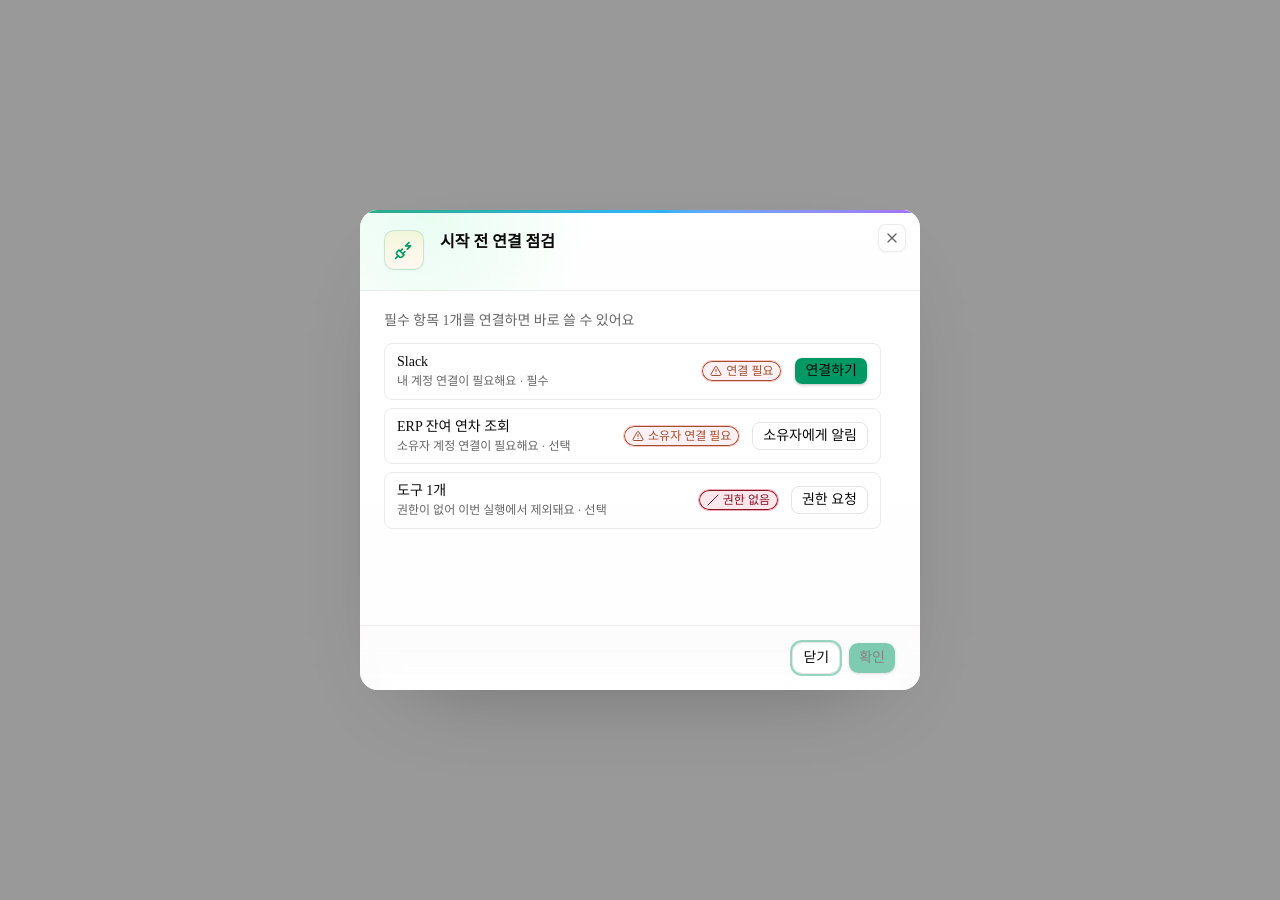
it: ReadinessDialog (S21) and the per-user connection dialog (S23) › notifies the owner once and requests access for counted items via the agent
This screenshot has width=1280, height=900.
Click the button "소유자에게 알림": (810, 436) [752,422,868,450]
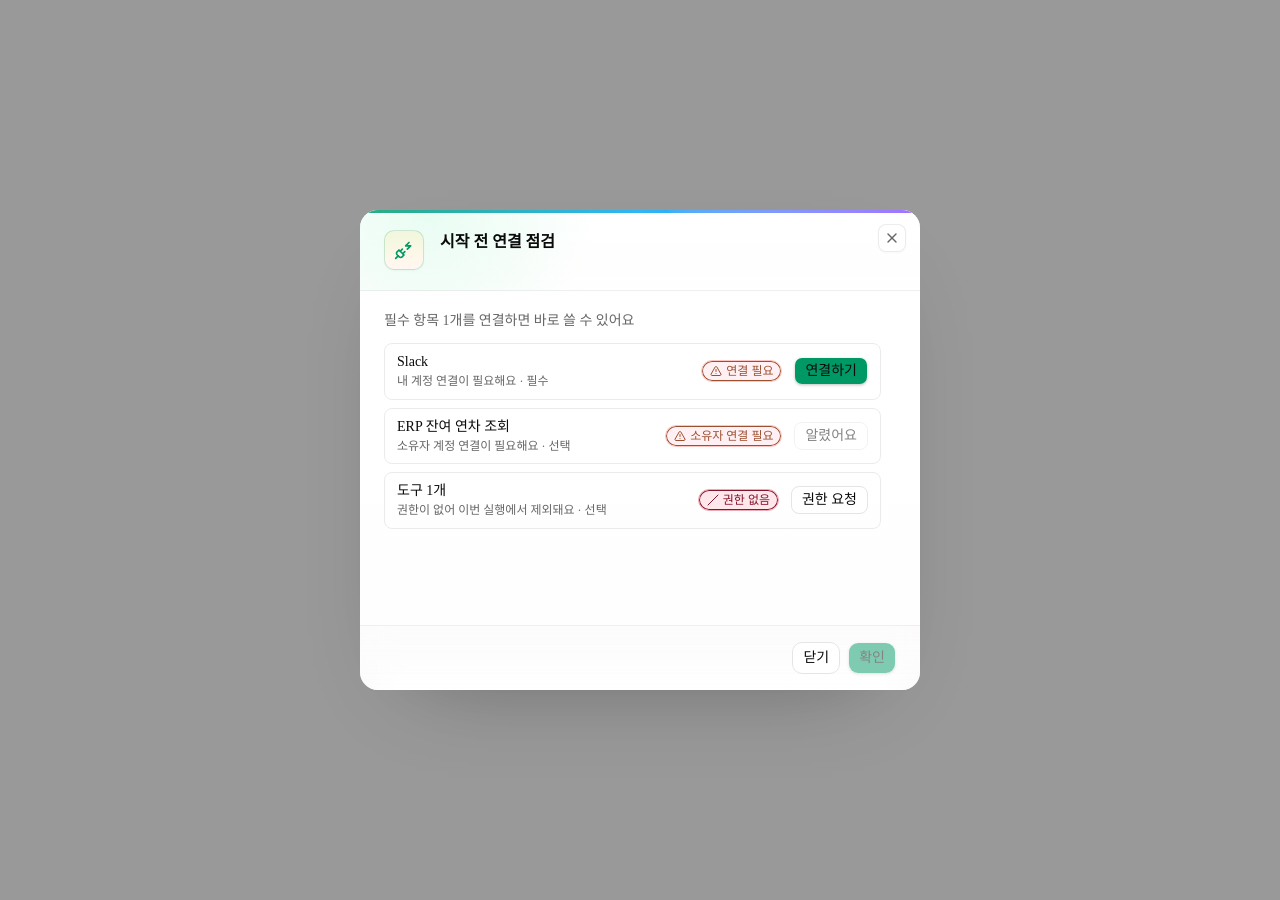
Expected: the button "알렸어요" is disabled, [794,422,868,450]
Click the button "권한 요청": (830, 500) [791,486,868,514]
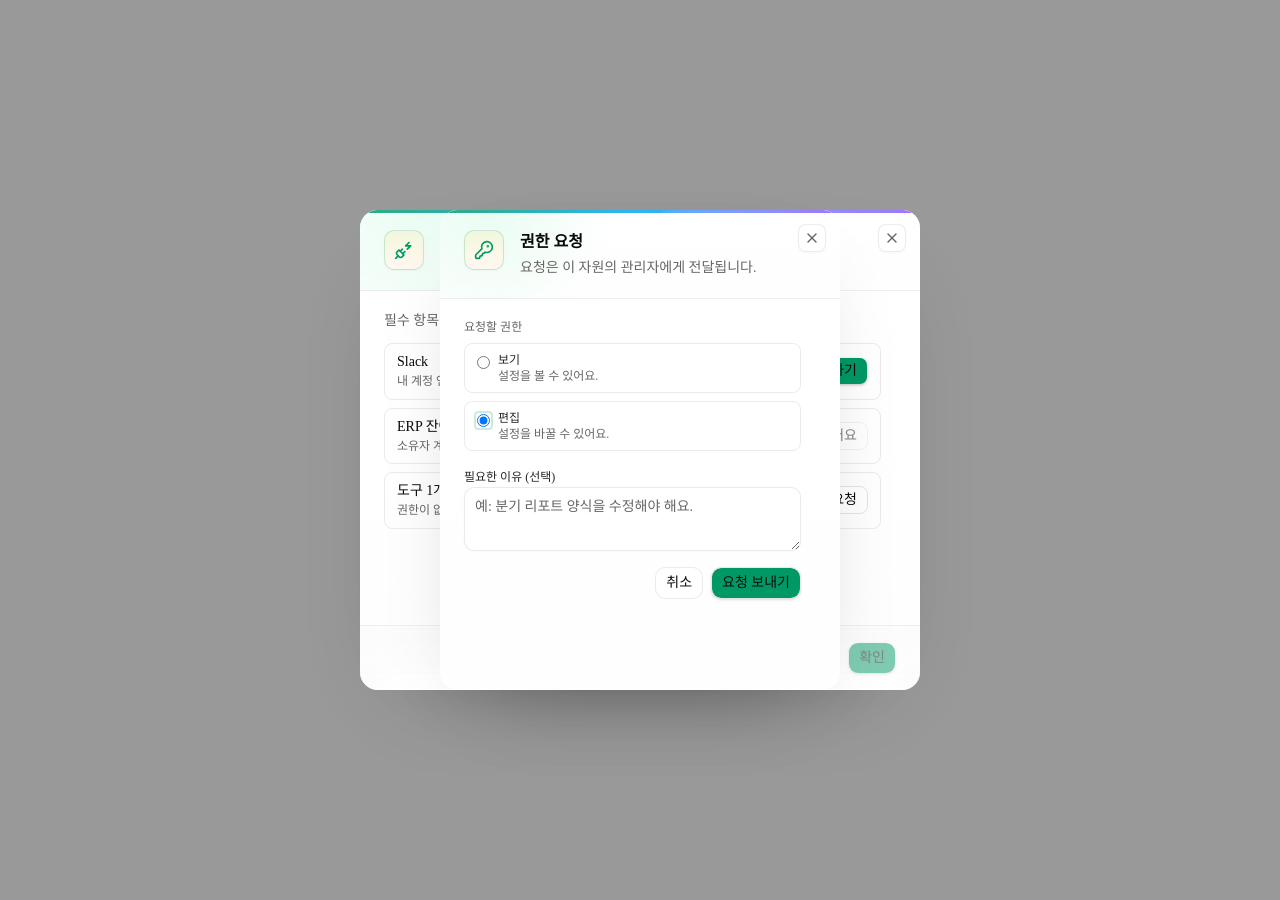
Expected: the button "요청 보내기" is shown, [711,567,801,599]
